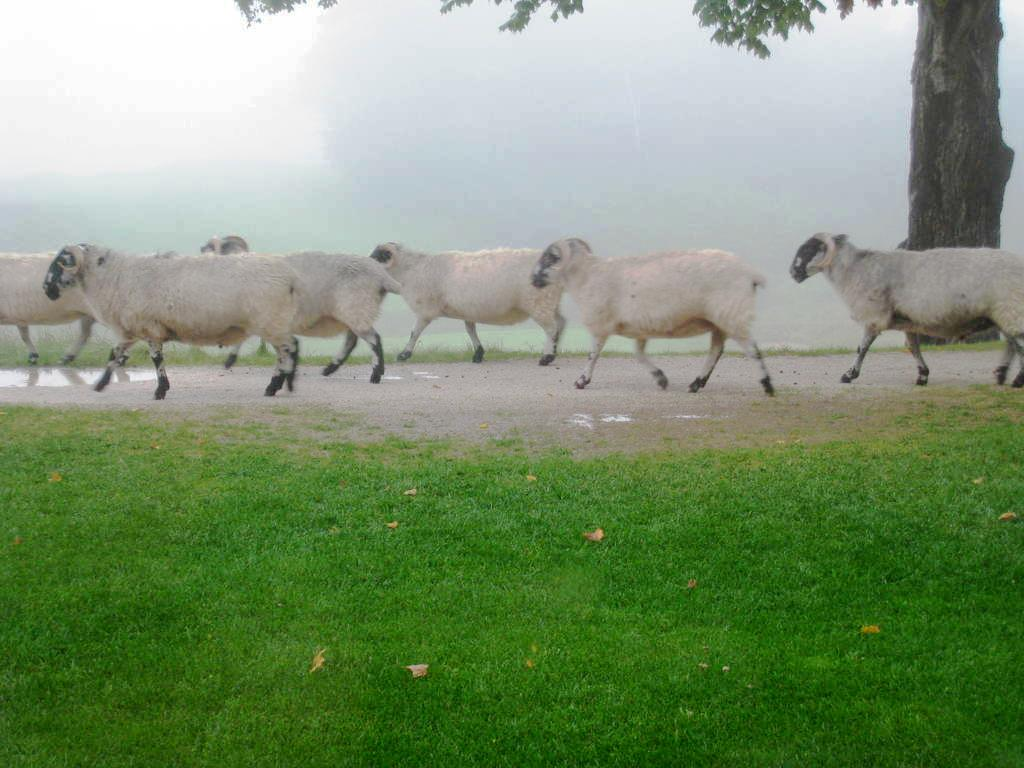Sheep: (33, 232, 293, 400), (533, 233, 773, 402), (783, 231, 1024, 393), (195, 235, 393, 379), (369, 231, 570, 370)
